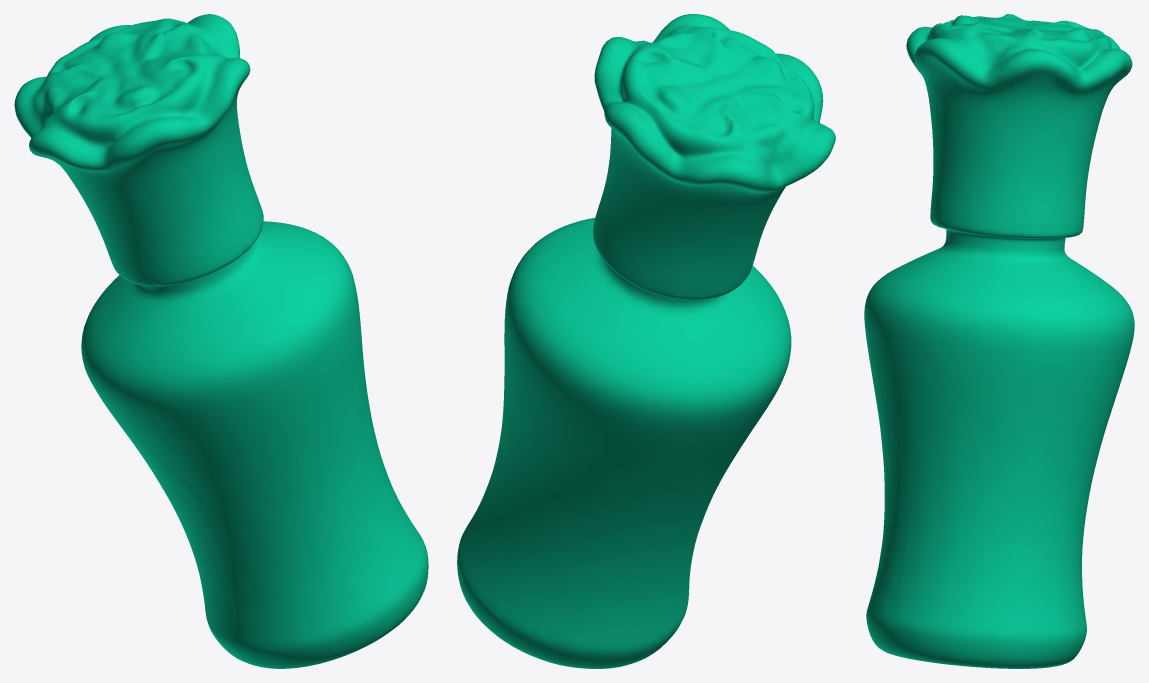
The model's file is caribbean_green_perfume_bottle1.glb.
The picture shows the model from 3 angles, left to right: view 1: azimuth 30°, elevation 25°; view 2: azimuth 150°, elevation 25°; view 3: azimuth 270°, elevation 25°; orthographic projection. The views are drawn at different scales.
Visible parts, largest first — view 1: Mesh1_Mesh1.026; view 2: Mesh1_Mesh1.026; view 3: Mesh1_Mesh1.026.
Boxes of the visible parts, box(x1,y1,x2,y2) form: Mesh1_Mesh1.026: box(14, 14, 428, 668); Mesh1_Mesh1.026: box(457, 14, 835, 668); Mesh1_Mesh1.026: box(864, 14, 1134, 668).
Size of the model in its own units: 1.24 by 2.04 by 0.8388.
